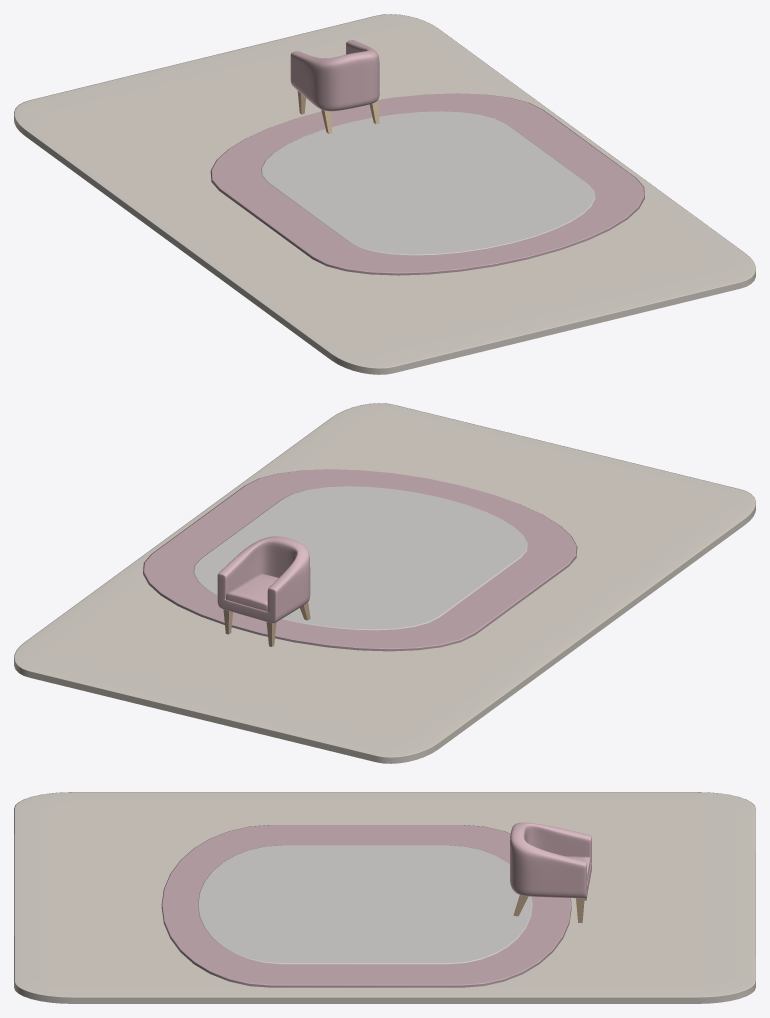
The model's file is floor_test.glb.
The picture shows the model from 3 angles, top to bottom: view 1: azimuth 30°, elevation 25°; view 2: azimuth 150°, elevation 25°; view 3: azimuth 270°, elevation 25°; orthographic projection.
Parts seen in each view (by area): view 1: floor, Rectangle 2, Rectangle, seat; view 2: floor, Rectangle 2, Rectangle, seat, cushion; view 3: floor, Rectangle 2, Rectangle, seat.
Boxes of the visible parts, left/top/right/bottom form: floor: left=14, top=14, right=755, bottom=374; Rectangle 2: left=261, top=111, right=595, bottom=255; Rectangle: left=210, top=93, right=644, bottom=275; seat: left=290, top=40, right=379, bottom=111; floor: left=14, top=403, right=755, bottom=763; Rectangle 2: left=193, top=486, right=527, bottom=630; Rectangle: left=143, top=469, right=577, bottom=651; seat: left=217, top=536, right=310, bottom=623; cushion: left=226, top=573, right=278, bottom=611; floor: left=14, top=792, right=755, bottom=1003; Rectangle 2: left=198, top=845, right=532, bottom=964; Rectangle: left=161, top=825, right=571, bottom=987; seat: left=510, top=822, right=591, bottom=898.
Bounding box in the file's own units: 9.93 × 2.01 × 15.14.
